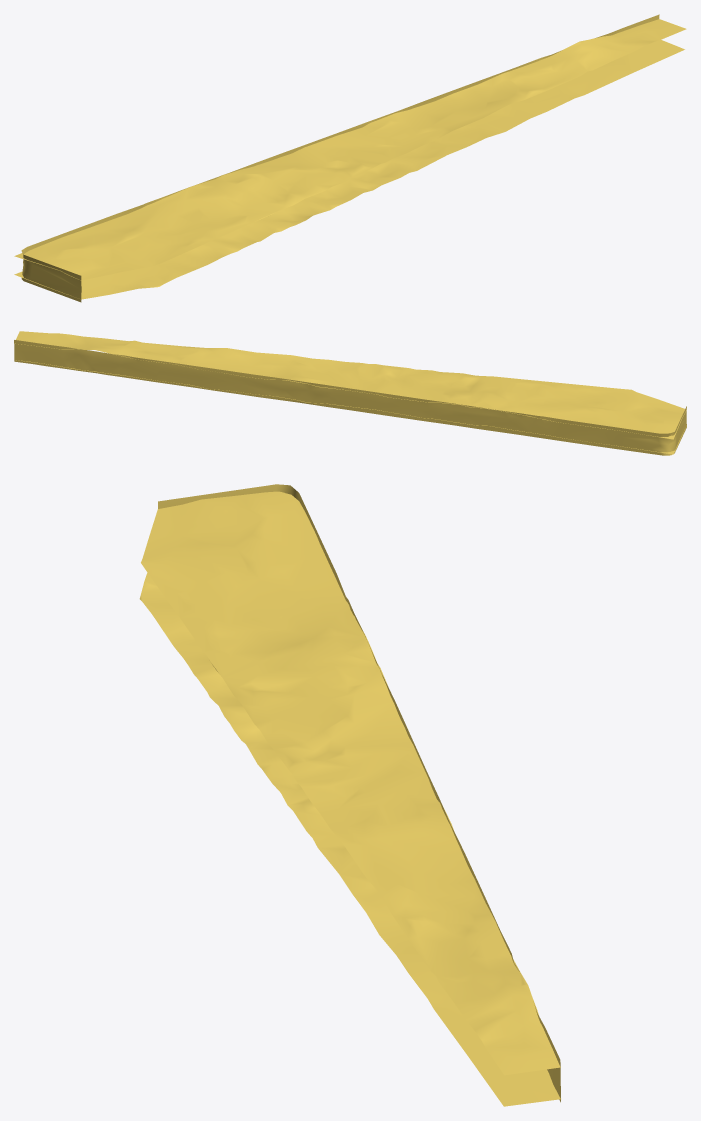
The model's file is Unique 6.fbx.
The picture shows the model from 3 angles, top to bottom: view 1: azimuth 30°, elevation 25°; view 2: azimuth 150°, elevation 25°; view 3: azimuth 270°, elevation 25°; orthographic projection. The views are drawn at different scales.
Visible parts, largest first — view 1: Unique_6; view 2: Unique_6; view 3: Unique_6.
Boxes of the visible parts, x1,y1,x2,y2 form: Unique_6: [14, 14, 686, 302]; Unique_6: [14, 331, 686, 455]; Unique_6: [139, 484, 560, 1106].
Size of the model in its own units: 3251 by 123 by 987.
